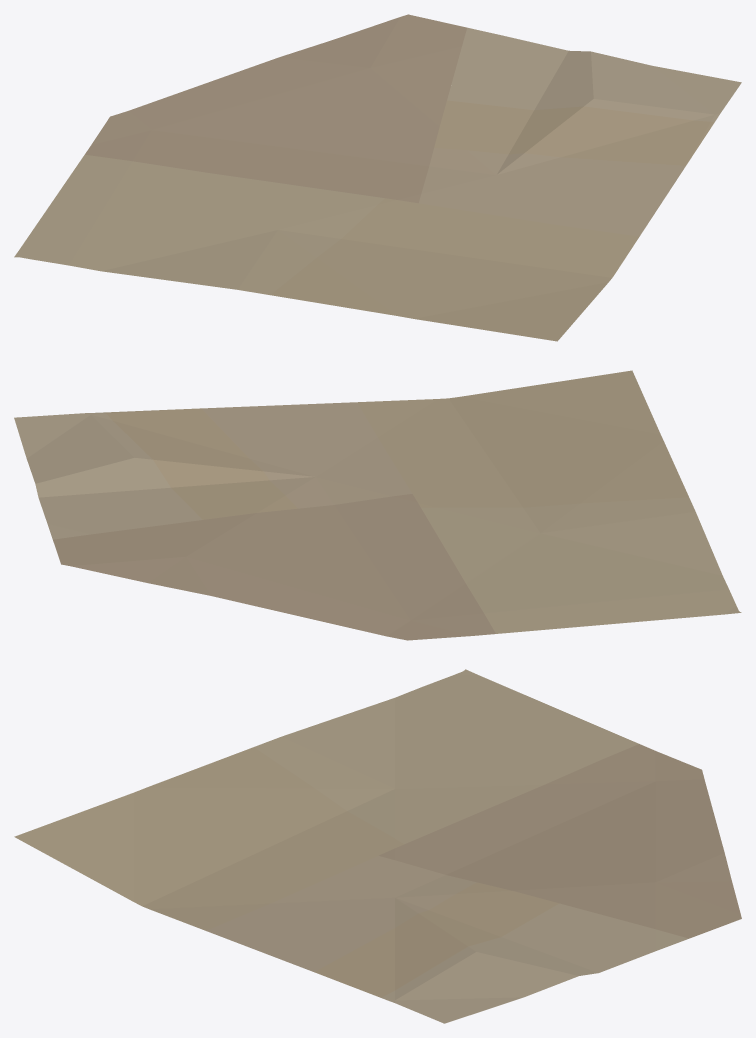
The model's file is farm_20_18_soil.glb.
3 renders of one model, top to bottom at view 1: azimuth 30°, elevation 25°; view 2: azimuth 150°, elevation 25°; view 3: azimuth 270°, elevation 25°, orthographic. The views are drawn at different scales.
Visible parts, largest first — view 1: geometry_0; view 2: geometry_0; view 3: geometry_0.
Boxes of the visible parts, box(x1,y1,x2,y2) form: geometry_0: box(14, 14, 741, 341); geometry_0: box(14, 370, 741, 640); geometry_0: box(14, 669, 741, 1023).
Size of the model in its own units: 263 by 10.48 by 223.
